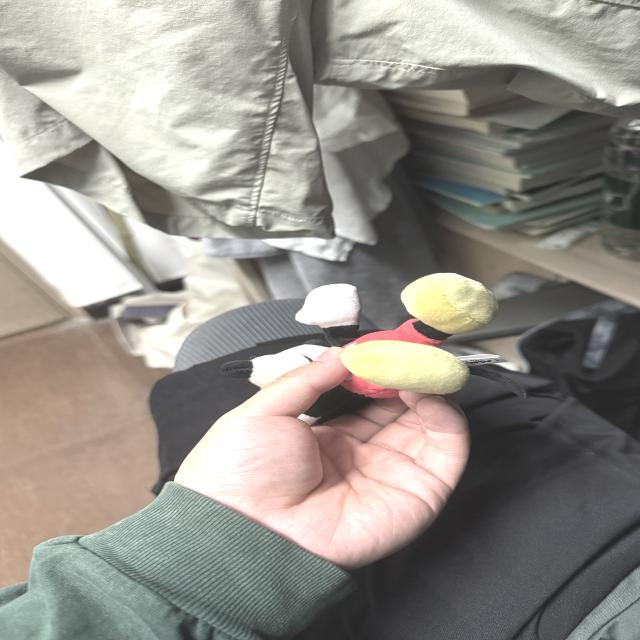mickey: (296, 274, 523, 422)
